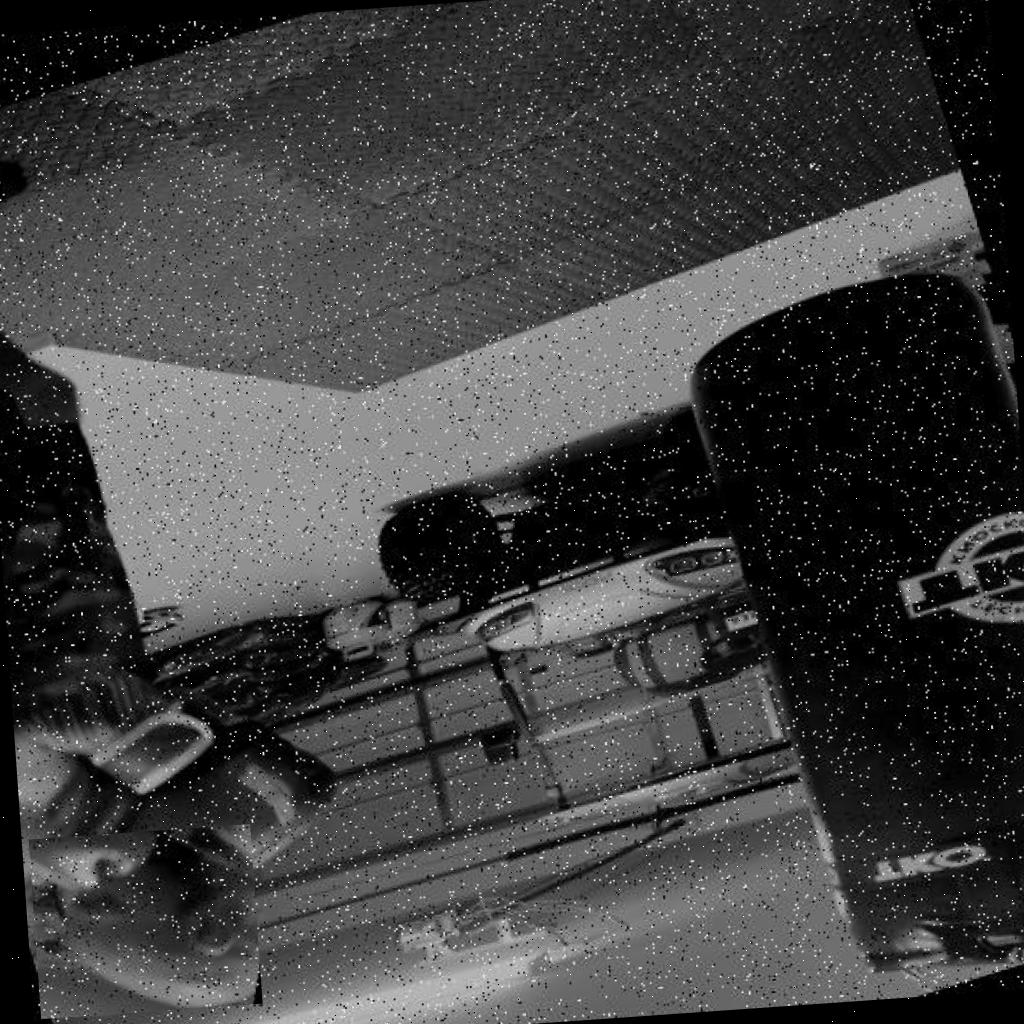bag: (35, 829, 260, 1004)
